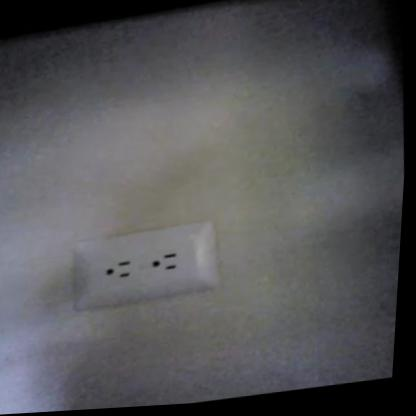OUTLET: (69, 220, 223, 314)
